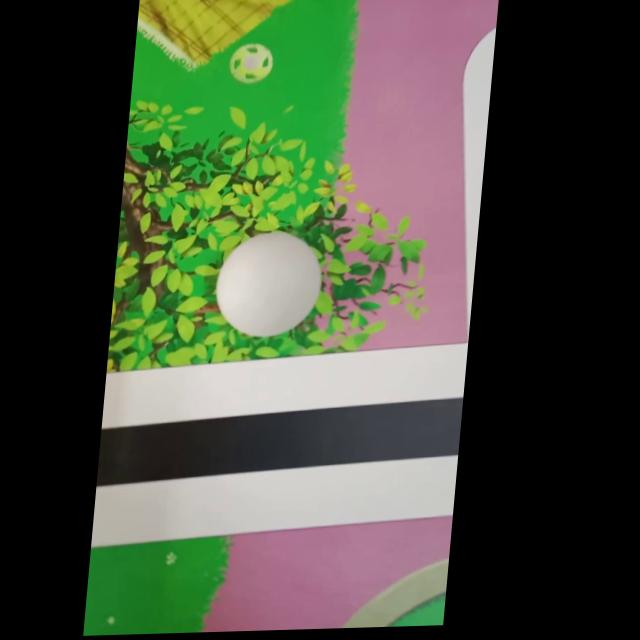white ball: (210, 228, 326, 339)
